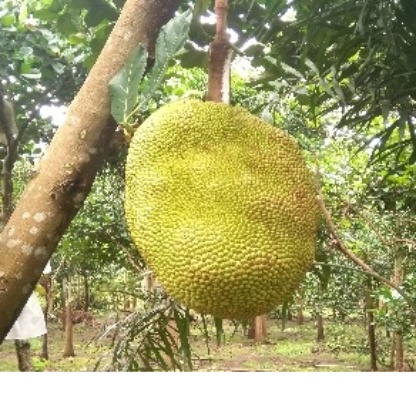mit: (126, 93, 317, 323)
